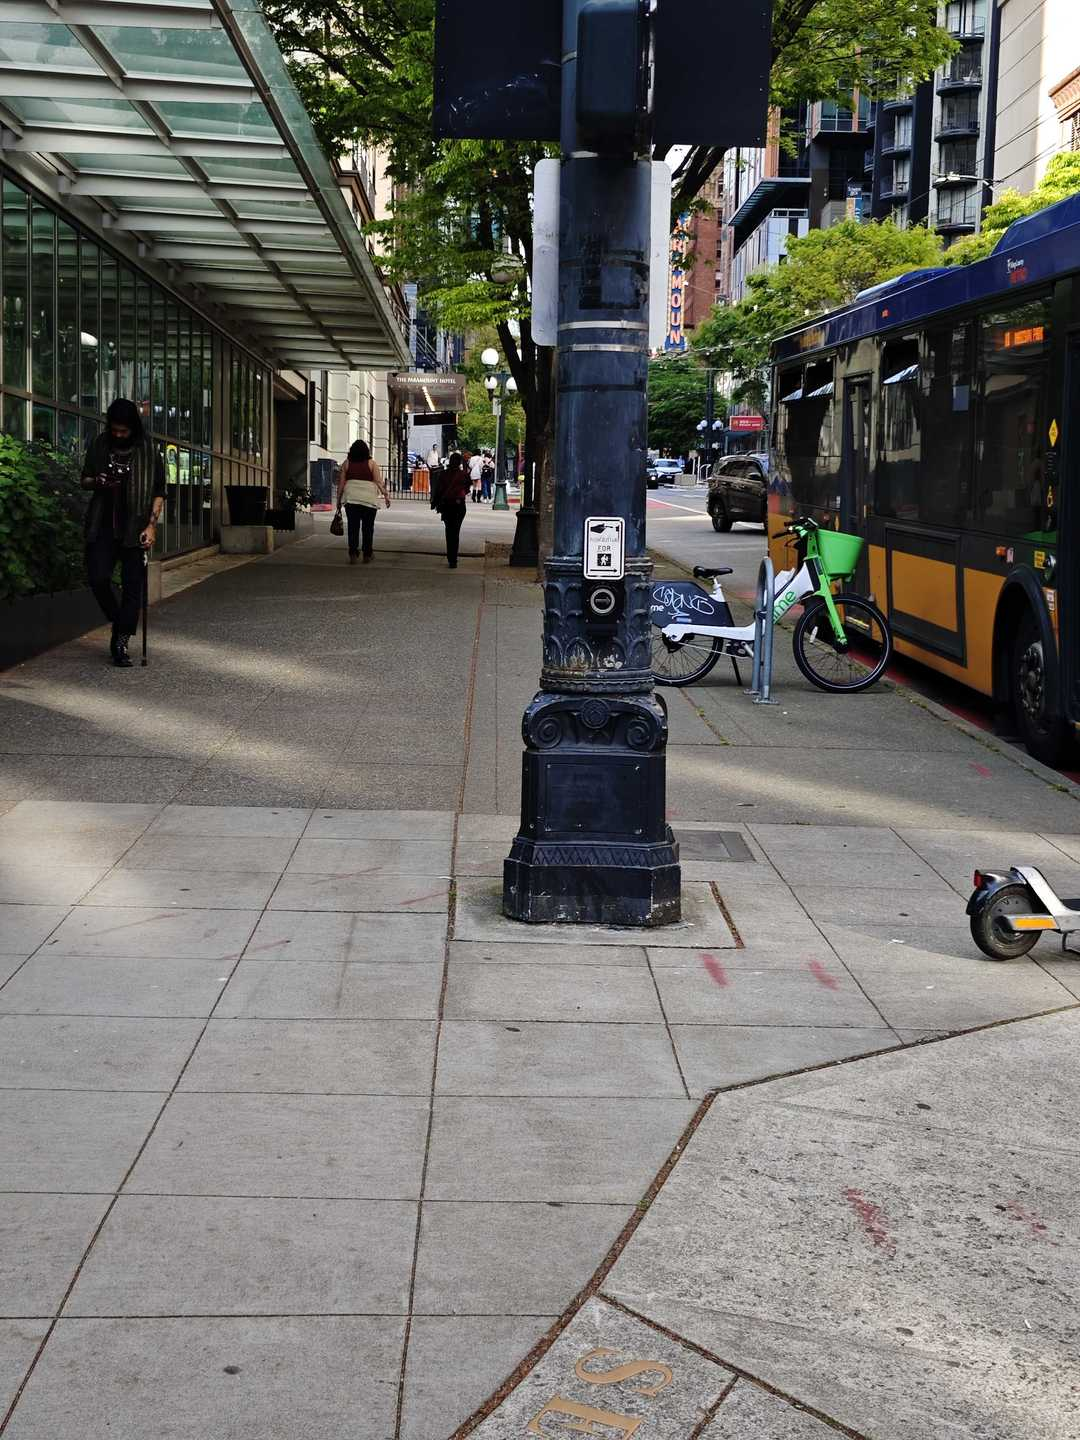ped_button: (584, 515, 624, 624)
